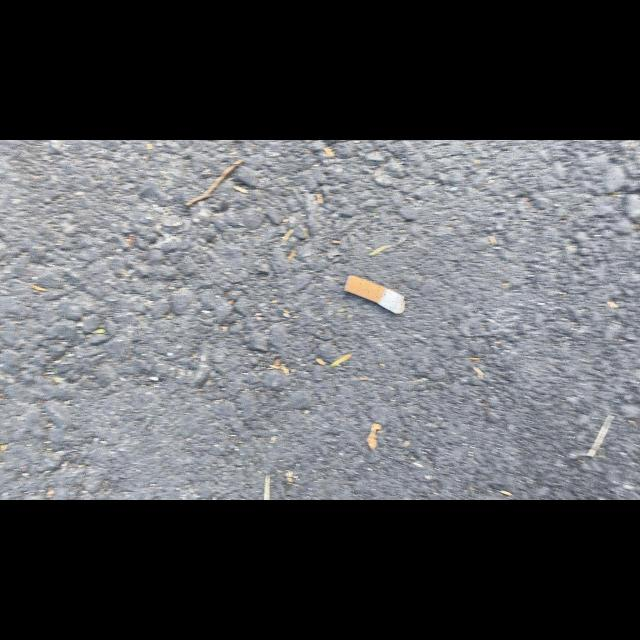cigarette: (343, 274, 406, 314)
